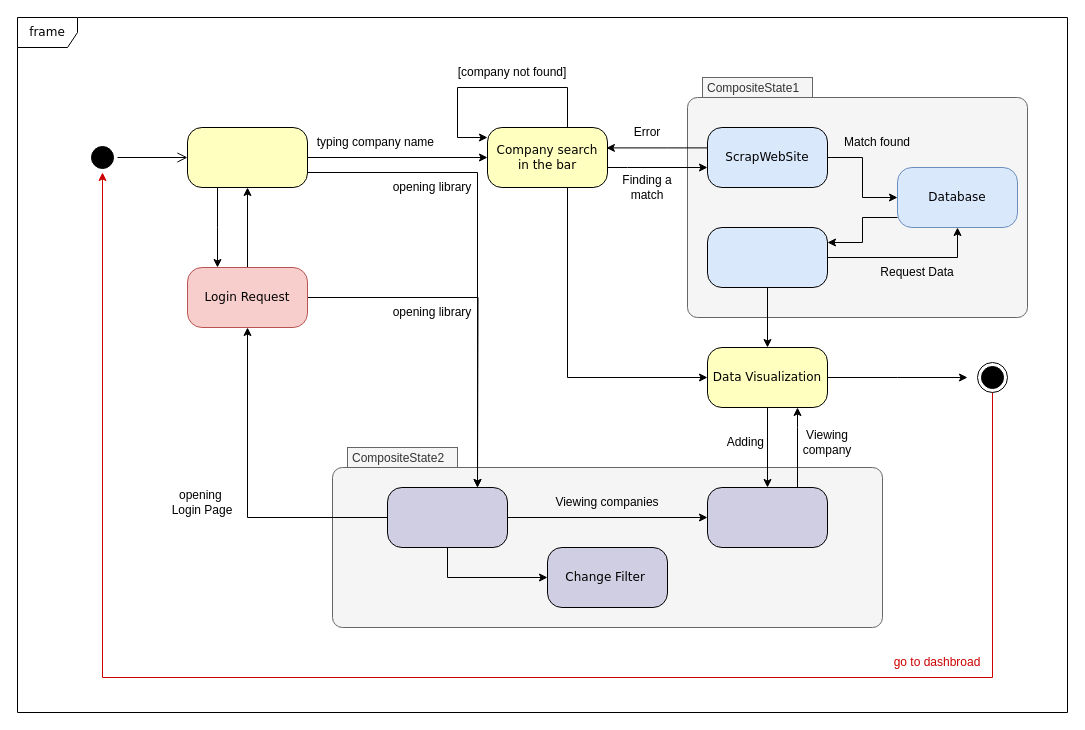
This 1085x730 diagram has some shape labels left out. The shapes that lost their labels are listed below. From the top down, each one's centre as x and y in pixels, then its label:
pixel 247 157: Home Page Website
pixel 767 257: SentimentAnalysis
pixel 447 517: Open Library
pixel 767 517: Company saved in Library
